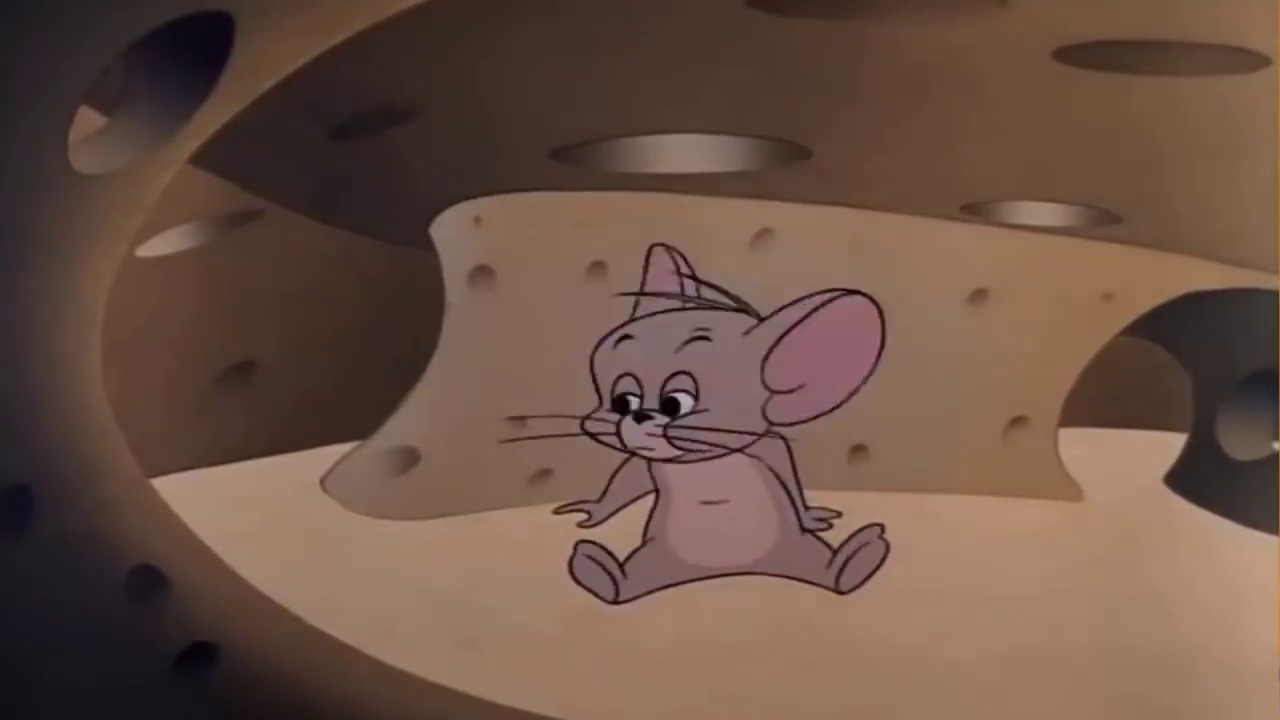face: (605, 330, 740, 463)
